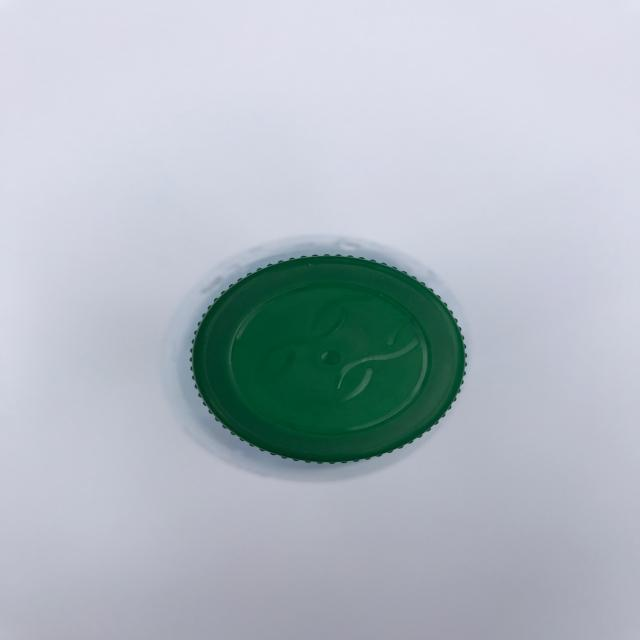plastic: (174, 232, 491, 485)
